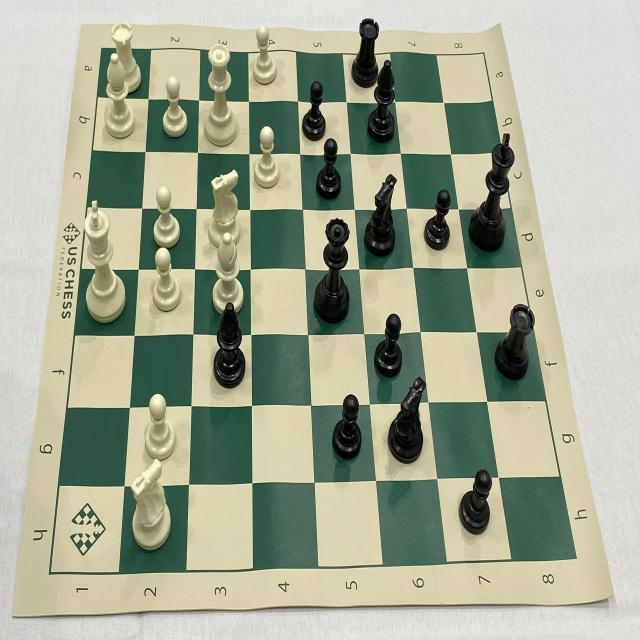black-bishop: (208, 300, 250, 391), (365, 54, 400, 146)
black-king: (466, 127, 519, 256)
black-knight: (386, 371, 427, 469), (363, 167, 401, 260)
black-pawn: (328, 386, 367, 466), (456, 466, 496, 540), (371, 311, 406, 382), (313, 130, 345, 206), (421, 185, 454, 254), (300, 78, 329, 143)
black-queen: (311, 215, 353, 330)
black-rook: (492, 296, 538, 382), (350, 10, 380, 94)
white-bishop: (98, 50, 138, 144), (208, 230, 248, 318)
white-king: (77, 194, 130, 330)
white-knight: (125, 456, 177, 556), (205, 163, 244, 250)
white-pawn: (139, 390, 178, 464), (148, 246, 184, 316), (148, 182, 183, 250), (250, 121, 282, 195), (250, 21, 280, 90), (160, 75, 190, 142)
white-queen: (202, 38, 240, 150)
white-rook: (106, 15, 148, 98)
